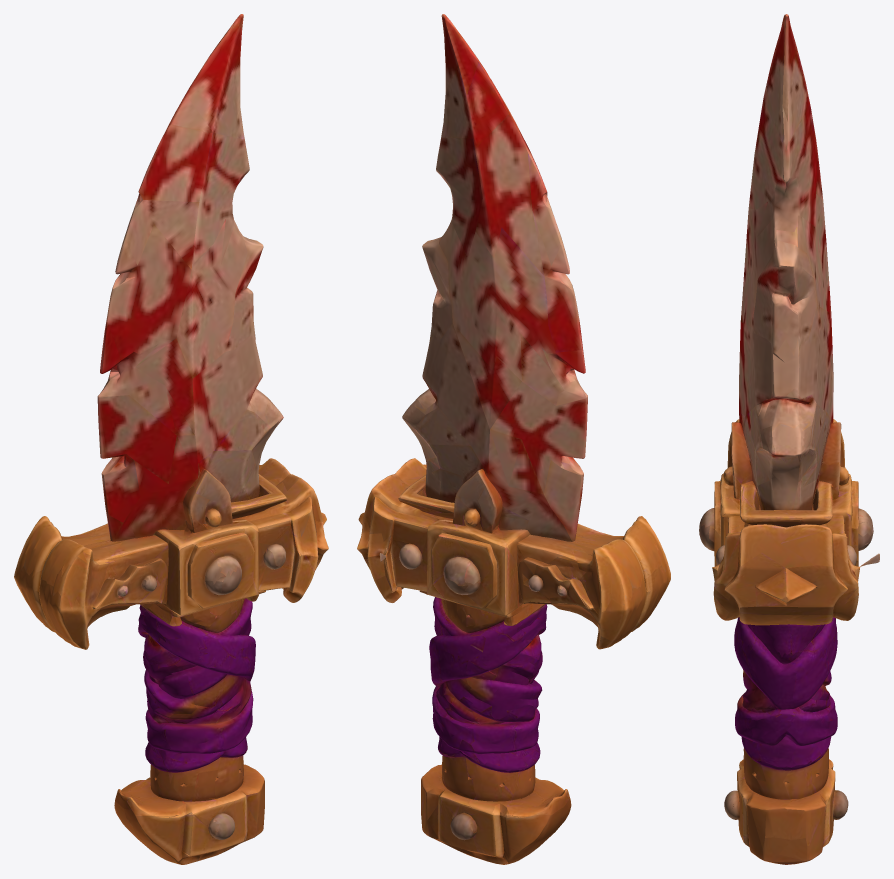
Rendered from shiv-rat-v2-dagger.glb.
The picture shows the model from 3 angles, left to right: view 1: azimuth 30°, elevation 25°; view 2: azimuth 150°, elevation 25°; view 3: azimuth 270°, elevation 25°; orthographic projection. The views are drawn at different scales.
Size of the model in its own units: 0.6964 by 1.9 by 0.3624.
Materials: 1 (1 with a texture image).
